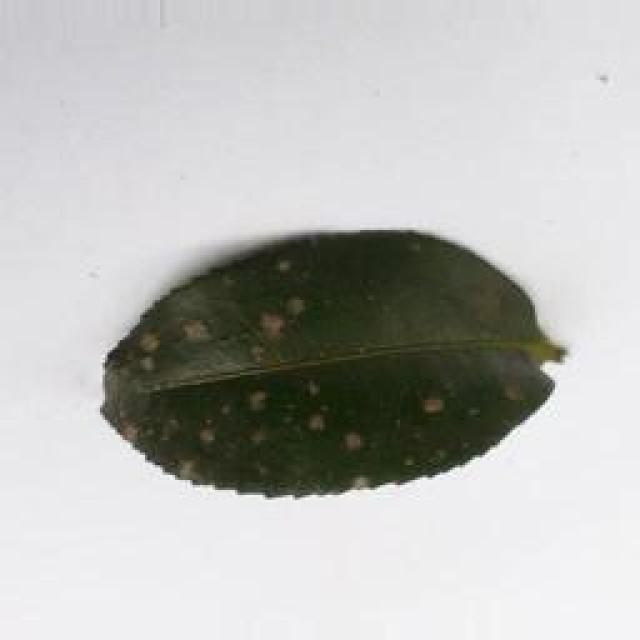Algal Leaf Spot: (98, 226, 568, 511)
